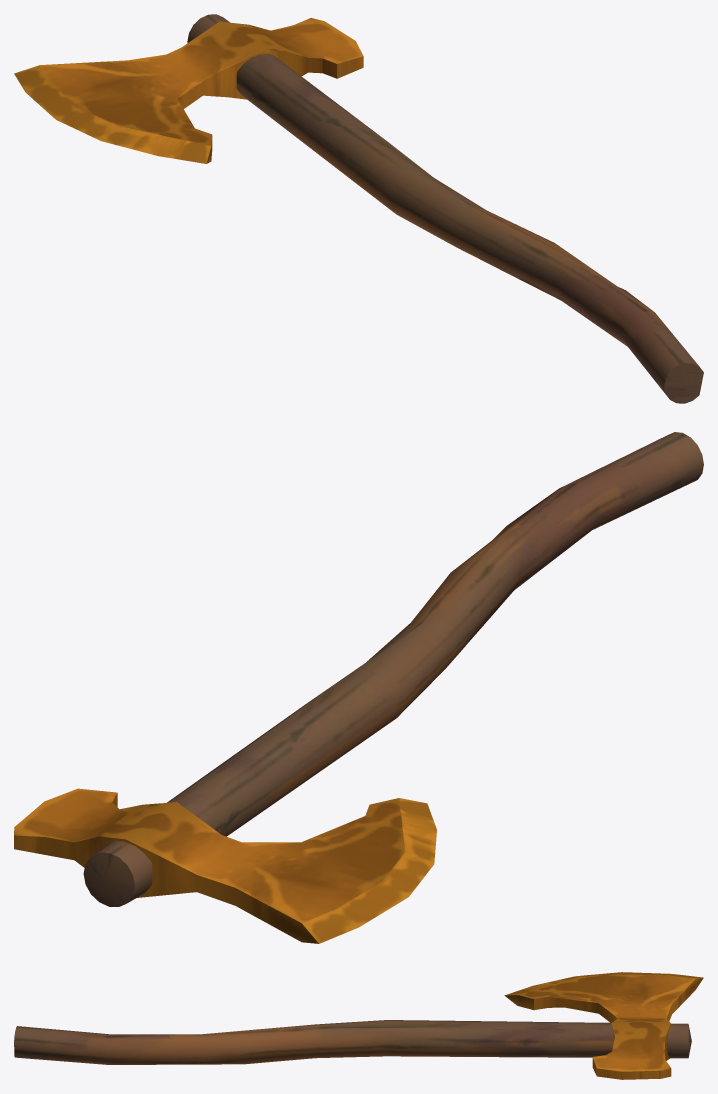
Rendered from fp-axe-bronze-lod2.glb.
3 renders of one model, top to bottom at view 1: azimuth 30°, elevation 25°; view 2: azimuth 150°, elevation 25°; view 3: azimuth 270°, elevation 25°, orthographic. The views are drawn at different scales.
Parts seen in each view (by area): view 1: WeaponMesh_fp-axe-bronze_Axe_Bronze; view 2: WeaponMesh_fp-axe-bronze_Axe_Bronze; view 3: WeaponMesh_fp-axe-bronze_Axe_Bronze.
Part boxes in pixels (box(x1,y1,x2,y2)): WeaponMesh_fp-axe-bronze_Axe_Bronze: box(14, 14, 703, 403); WeaponMesh_fp-axe-bronze_Axe_Bronze: box(14, 432, 703, 943); WeaponMesh_fp-axe-bronze_Axe_Bronze: box(14, 972, 703, 1079).
Size of the model in its own units: 0.4444 by 0.0696 by 1.25.
1 material, 1 textured.
